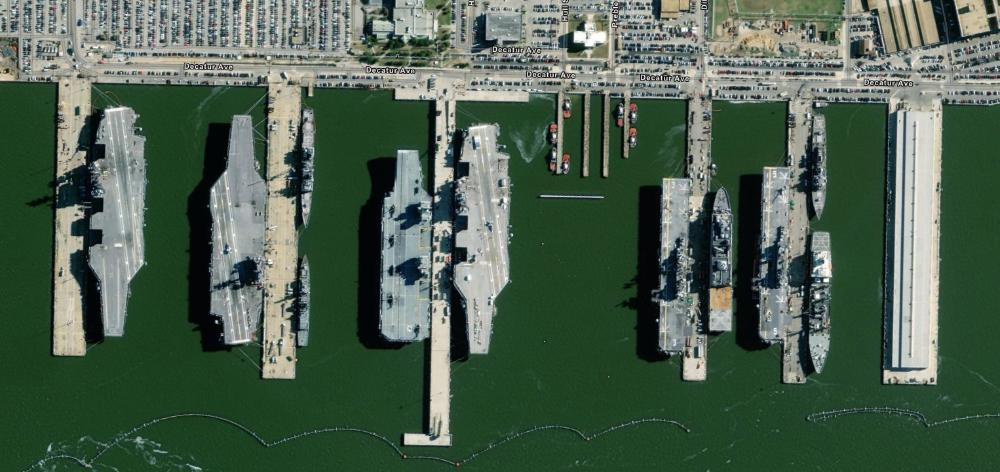cruiser: (296, 253, 316, 351)
destroyer: (298, 105, 323, 232)
fregate: (810, 109, 834, 222)
pha: (657, 176, 696, 356), (761, 161, 789, 349)
tender: (809, 228, 836, 380)
